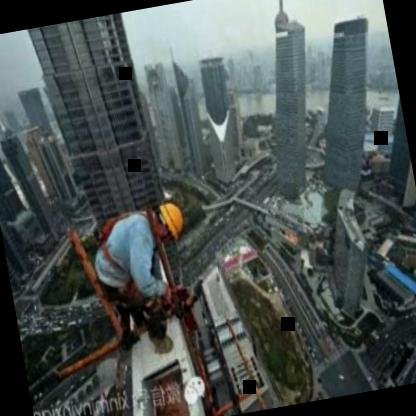helmet: (150, 193, 188, 247)
